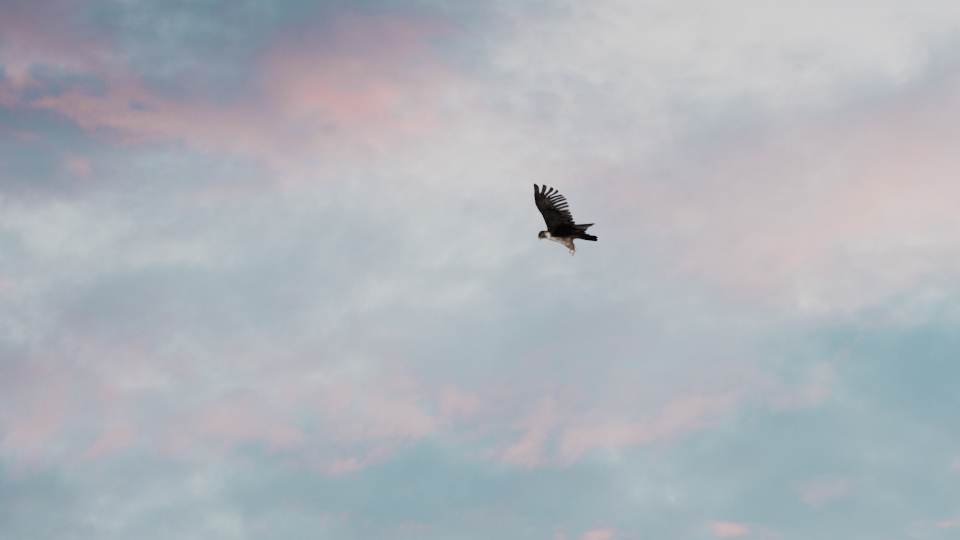bird: (527, 178, 604, 257)
